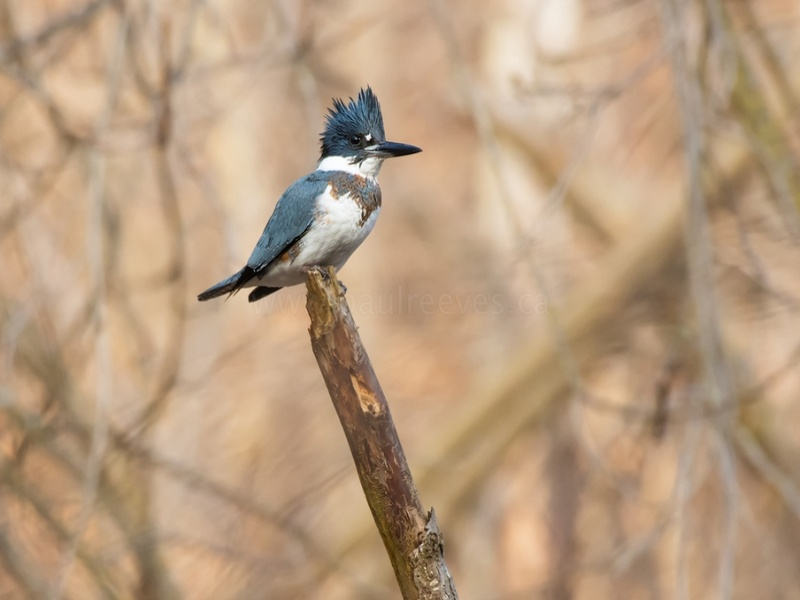kingfisher: (197, 84, 423, 310)
